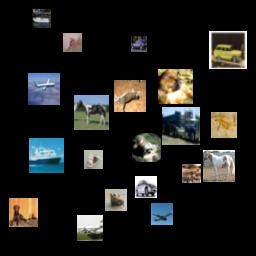airplane: (28, 73, 60, 105), (77, 215, 103, 241), (151, 203, 173, 225)
automobile: (209, 31, 247, 69), (135, 176, 157, 198), (131, 36, 147, 52)
cat: (114, 80, 146, 112)
deer: (211, 112, 237, 138)
dog: (158, 69, 193, 104), (9, 198, 38, 227), (132, 133, 161, 162), (63, 33, 82, 52)
frog: (105, 189, 127, 211), (182, 164, 201, 183)
ship: (29, 138, 64, 173), (84, 150, 103, 169), (32, 9, 51, 28)
truck: (162, 107, 200, 145)
